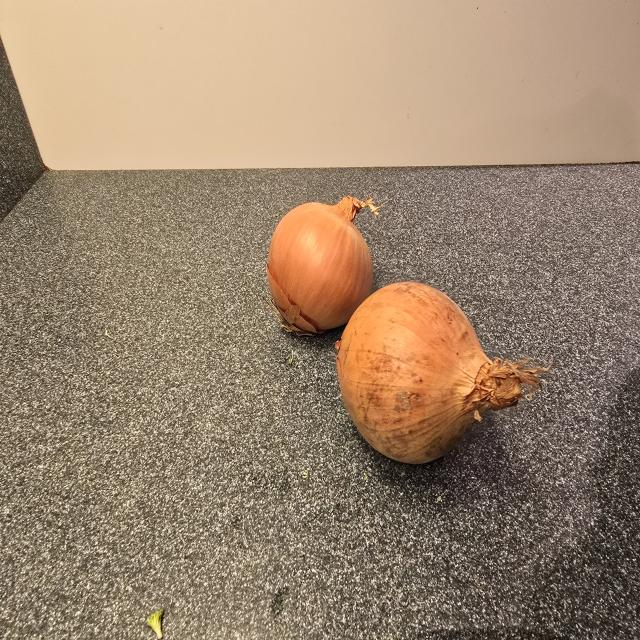Onion: (336, 282, 550, 463), (267, 196, 379, 334)
